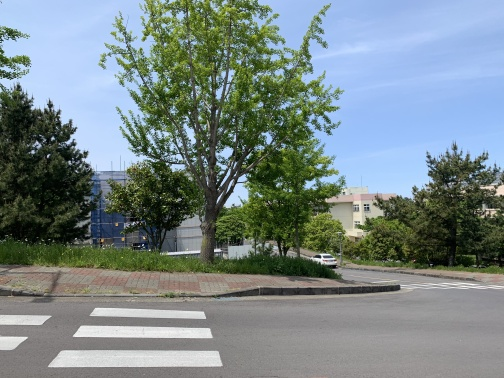College Of Education: (327, 180, 407, 239), (458, 177, 504, 218)
